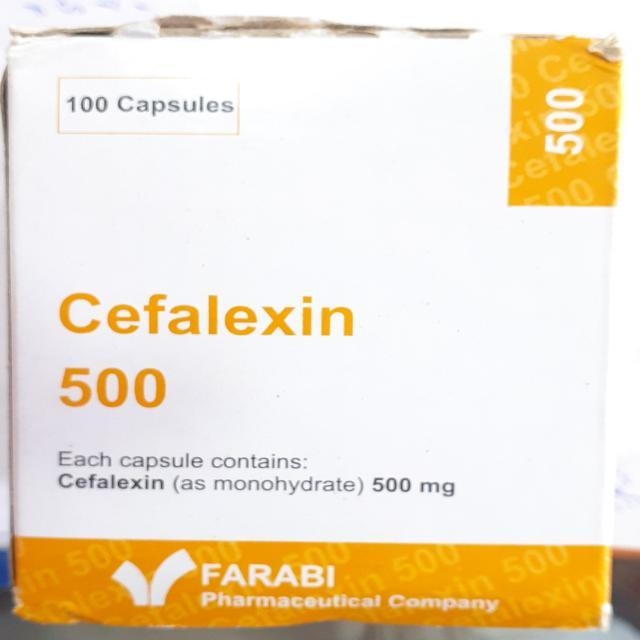drug-name: (45, 286, 360, 348)
